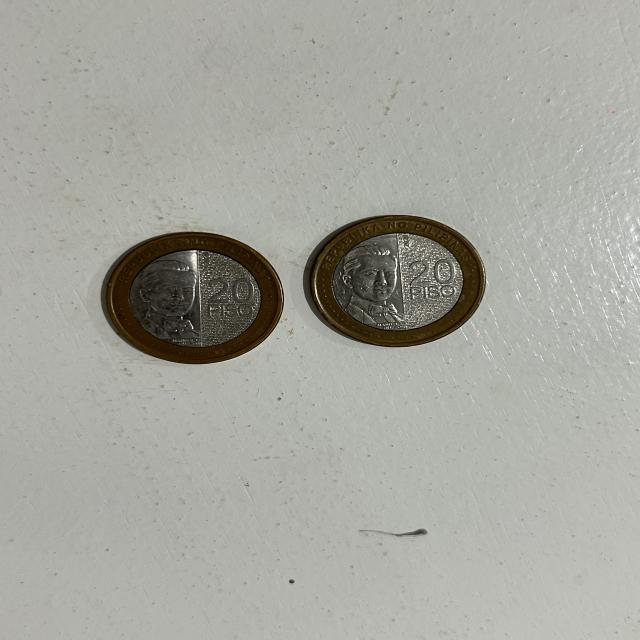20_New_Front: (197, 274, 258, 326), (404, 258, 464, 303)
